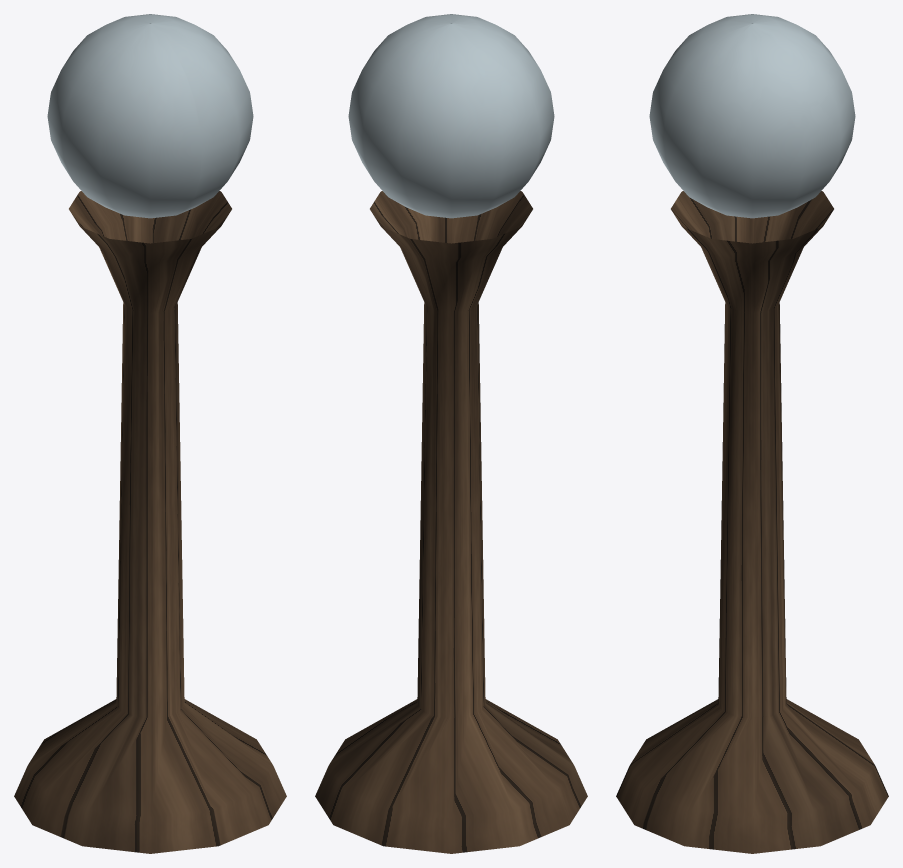
File: CrystalBall_1.gltf
3 views of the same model, side by side, from view 1: azimuth 30°, elevation 25°; view 2: azimuth 150°, elevation 25°; view 3: azimuth 270°, elevation 25° (orthographic).
Visible parts, largest first — view 1: CrystalBall_1; view 2: CrystalBall_1; view 3: CrystalBall_1.
Part boxes in pixels (x1=…): CrystalBall_1: x1=14, y1=14, x2=286, y2=853; CrystalBall_1: x1=315, y1=14, x2=587, y2=853; CrystalBall_1: x1=616, y1=14, x2=888, y2=853.
Size of the model in its own units: 0.4 by 1.25 by 0.4.
2 materials, 2 textured.
